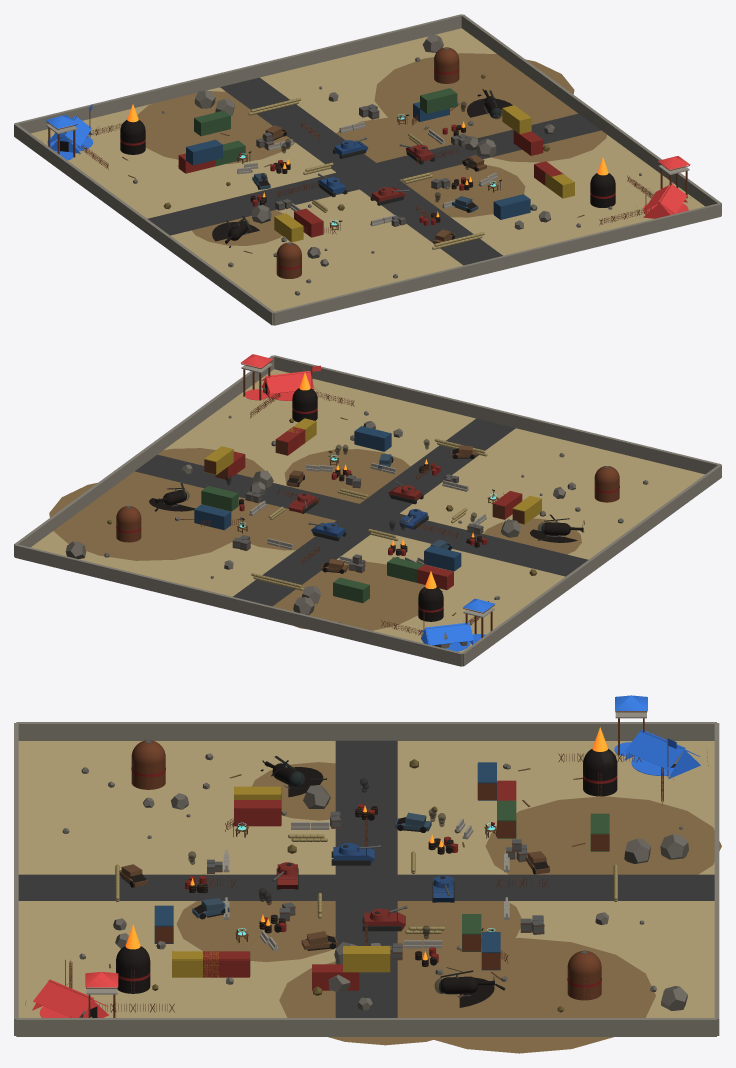
The model's file is battle-map.glb.
The picture shows the model from 3 angles, top to bottom: view 1: azimuth 30°, elevation 25°; view 2: azimuth 150°, elevation 25°; view 3: azimuth 270°, elevation 25°; orthographic projection. The views are drawn at different scales.
Visible parts, largest first — view 1: ground, dirt_patch (×6), perimeter_wall (×4), road (×2), container_body (×5); view 2: ground, dirt_patch (×6), perimeter_wall (×4), road (×2), container_body (×7), tent_roof_left, tent_roof_right; view 3: ground, dirt_patch (×6), perimeter_wall (×4), road (×2), fuel_tank_shell (×4), container_rib (×4), fuel_tank_dome (×4), tent_roof_left, tent_roof_right, heli_fuselage, rock, heli_scorch.
Boxes of the visible parts, x1,y1,x2,y2 form: ground: (31, 28, 704, 311); dirt_patch (×6): (137, 53, 606, 245); perimeter_wall (×4): (14, 14, 721, 325); road (×2): (147, 77, 600, 265); container_body (×5): (274, 105, 574, 242); ground: (31, 369, 704, 652); dirt_patch (×6): (49, 448, 581, 630); perimeter_wall (×4): (14, 355, 721, 666); road (×2): (135, 418, 588, 606); container_body (×7): (194, 426, 461, 603); tent_roof_left: (425, 622, 473, 645); tent_roof_right: (265, 371, 314, 393); ground: (18, 741, 714, 1017); dirt_patch (×6): (176, 762, 721, 1053); perimeter_wall (×4): (14, 722, 719, 1036); road (×2): (18, 740, 714, 1017); fuel_tank_shell (×4): (116, 758, 617, 1000); container_rib (×4): (172, 808, 390, 976); fuel_tank_dome (×4): (116, 740, 617, 974); tent_roof_left: (33, 979, 93, 1017); tent_roof_right: (624, 729, 685, 769); heli_fuselage: (439, 976, 478, 994); rock: (660, 834, 688, 859); heli_scorch: (288, 767, 323, 797).
Size of the model in its own units: 95.64 by 9.82 by 90.94.
